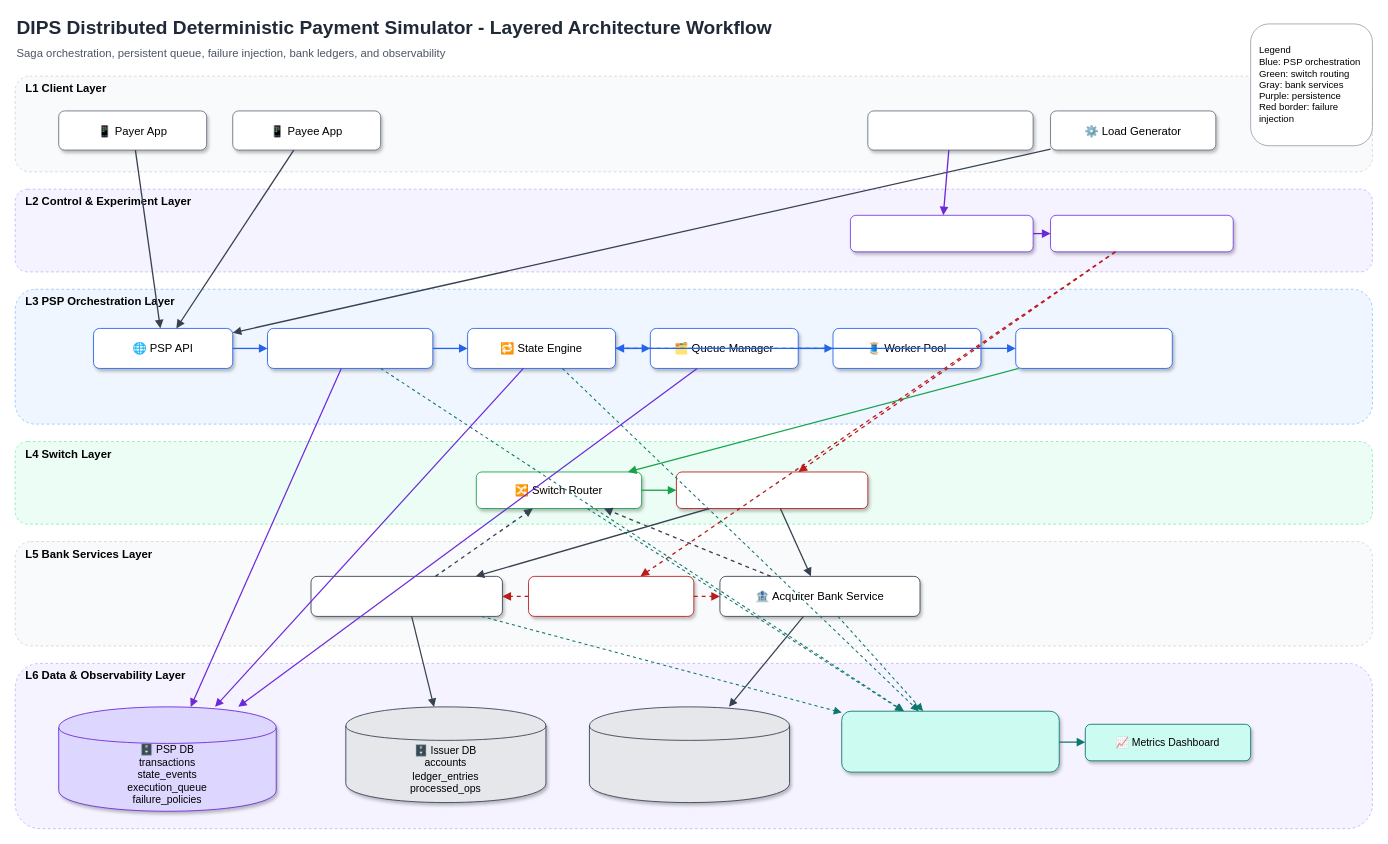
The diagram is 1388 pixels wide and 844 high, and some of its shapes have lost their labels. Each missing label, with the centre of its shape:
⚠️ Bank Failure Injector: [611,597]
⚠️ Failure Policy Manager: [1142,234]
⚠️ Switch Failure Injector: [772,491]
🏦 Issuer Bank Service: [407,597]
📊 Observability Pipeline metrics, traces, audit events: [950,742]
🔌 Switch Adapter: [1094,349]
🗄️ Acquirer DB accounts ledger_entries processed_ops: [690,756]
🛠️ Admin Console: [950,131]
🧠 Saga Orchestrator: [350,349]
🧪 Experiment Controller: [942,234]
